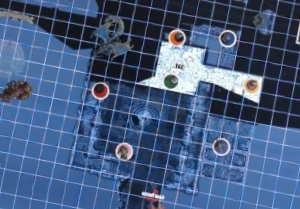blue: (215, 24, 241, 53)
green: (155, 70, 182, 94)
orange: (165, 25, 188, 47)
pink: (110, 138, 138, 163)
red: (90, 77, 113, 101)
violet: (209, 136, 233, 159)
yellow: (242, 74, 262, 95)
